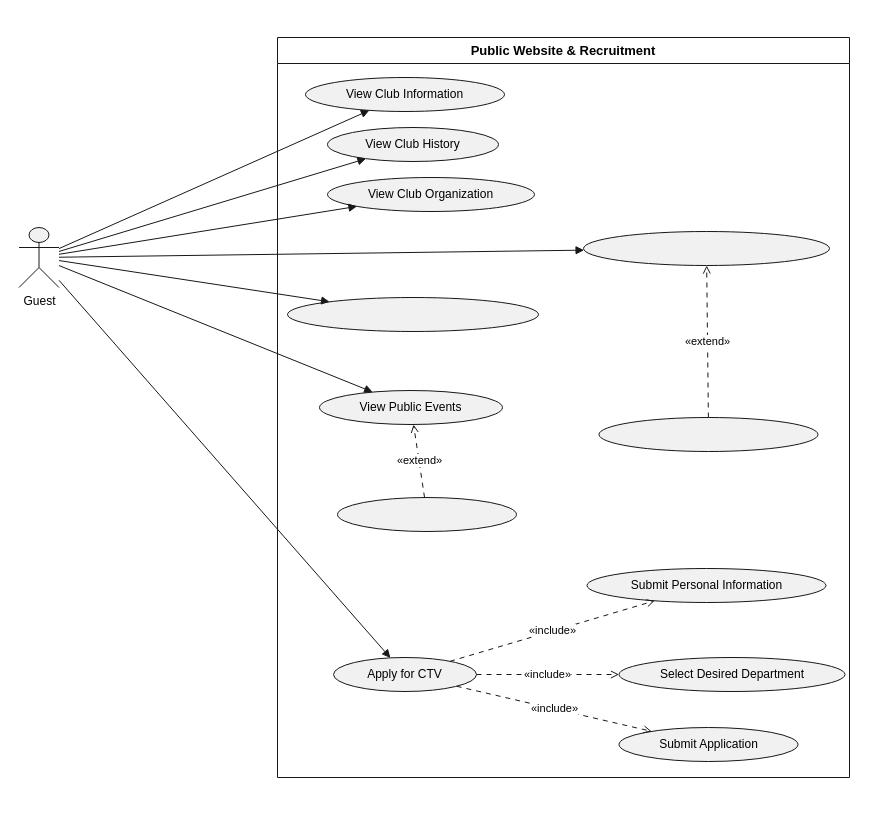
This 896x814 diagram has some shape labels left out. The shapes that lost their labels are listed below. From the top down, each one's centre as x and y in pixels, then its label:
At (706,248): "View Recruitment Campaigns".
At (412,314): "View Club Contact Information".
At (708,434): "View Recruitment Details".
At (426,514): "View Event Details".
